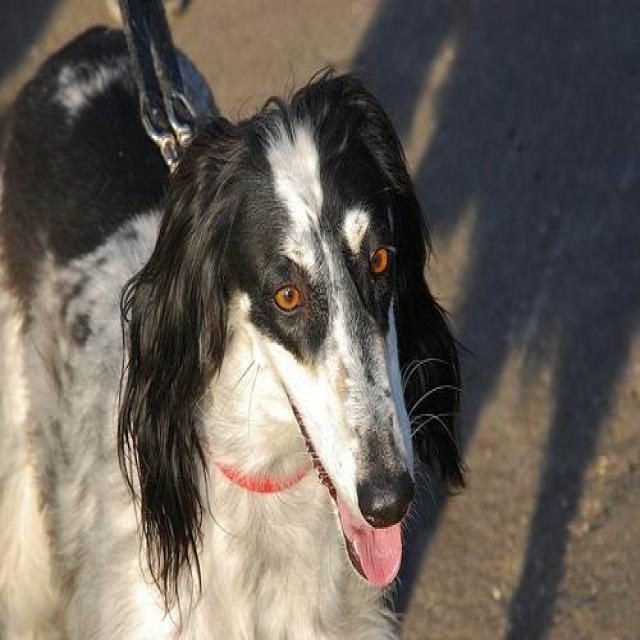saluki: (0, 26, 480, 636)
